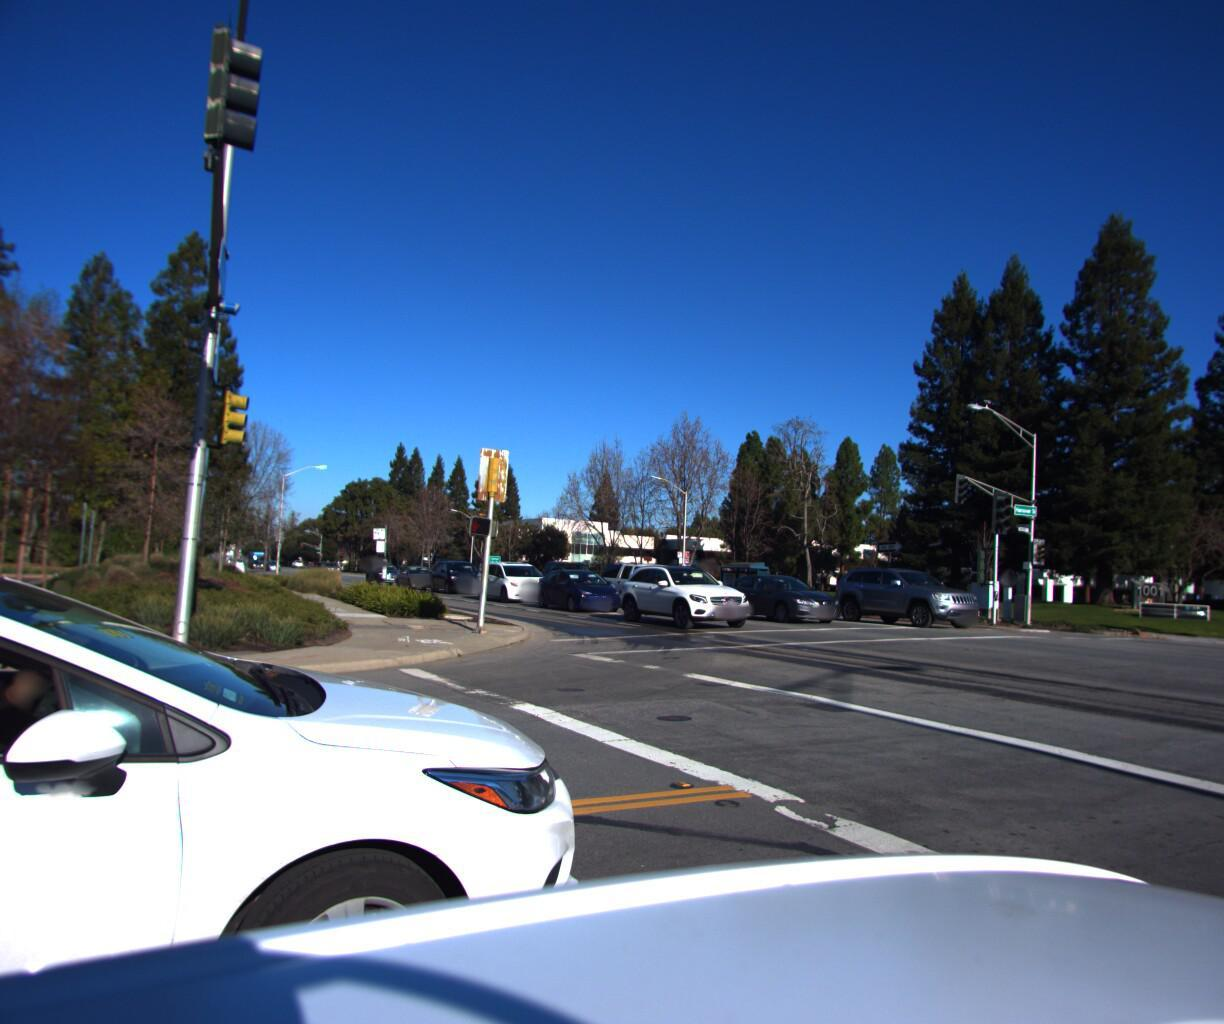car: (0, 427, 706, 1024), (824, 558, 995, 625), (612, 552, 764, 626), (699, 562, 854, 621), (592, 550, 710, 606), (529, 559, 633, 610), (467, 553, 560, 602), (425, 553, 491, 593), (389, 557, 448, 586), (360, 555, 410, 582)
